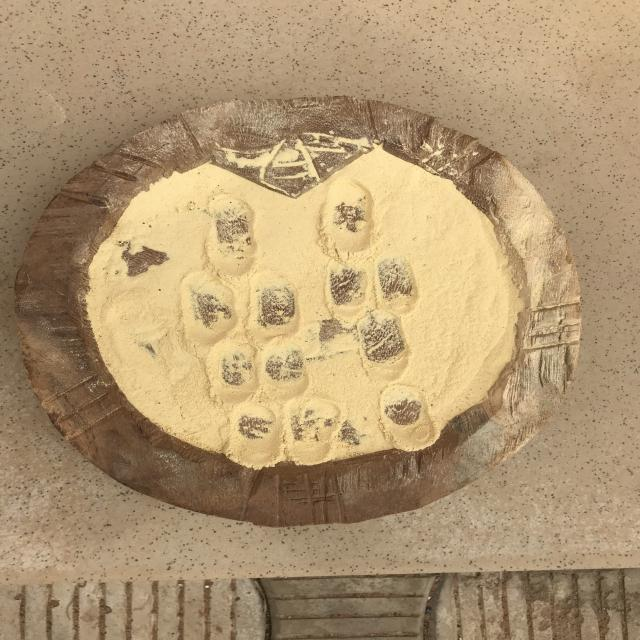double: (222, 394, 350, 466), (177, 268, 300, 342), (194, 334, 313, 398), (313, 250, 423, 318)
single: (202, 192, 262, 276), (319, 174, 377, 257), (354, 308, 414, 380), (376, 384, 437, 452)
